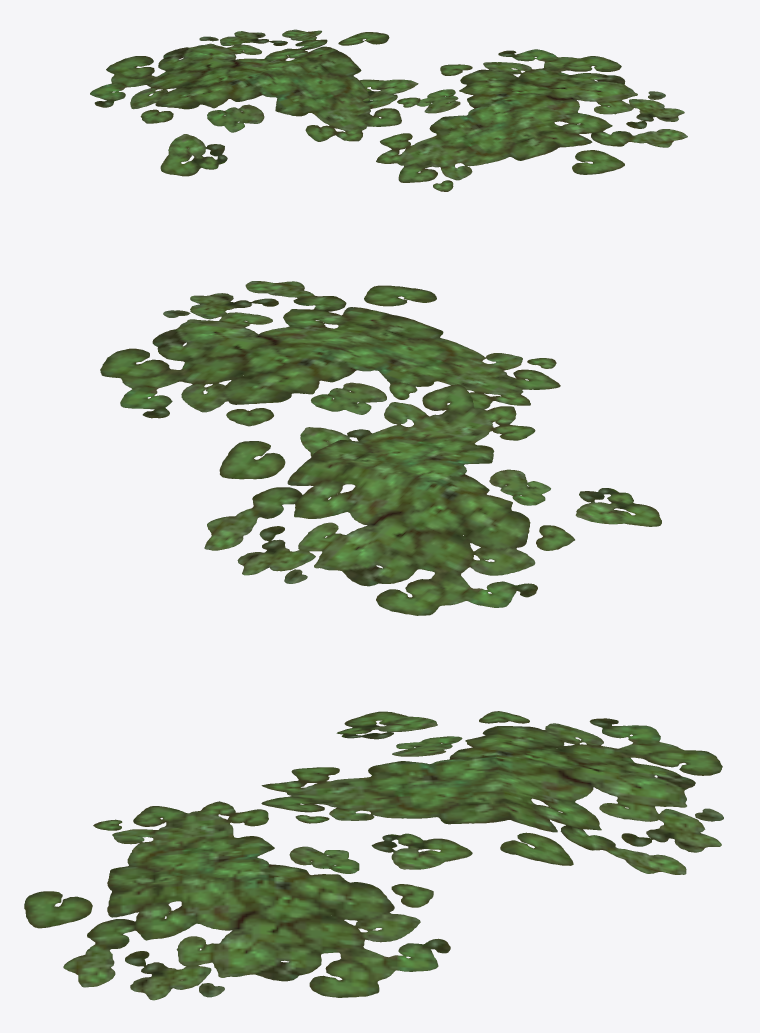
The model's file is frst_ptch_clover_green_lg_l0.fbx.
3 views of the same model, one above another, from view 1: azimuth 30°, elevation 25°; view 2: azimuth 150°, elevation 25°; view 3: azimuth 270°, elevation 25° (orthographic). The views are drawn at different scales.
Parts seen in each view (by area): view 1: mesh_node; view 2: mesh_node; view 3: mesh_node.
Boxes of the visible parts, <box> form: mesh_node: <box>90,29,687,191</box>; mesh_node: <box>100,281,661,615</box>; mesh_node: <box>24,711,723,1000</box>.
Size of the model in its own units: 3.1 by 0.362 by 2.94.
1 material, 1 textured.
